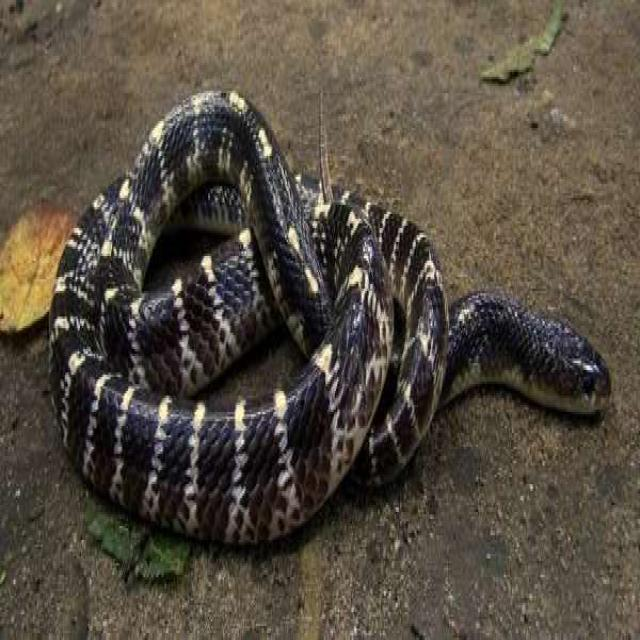Snake: (46, 83, 612, 550)
